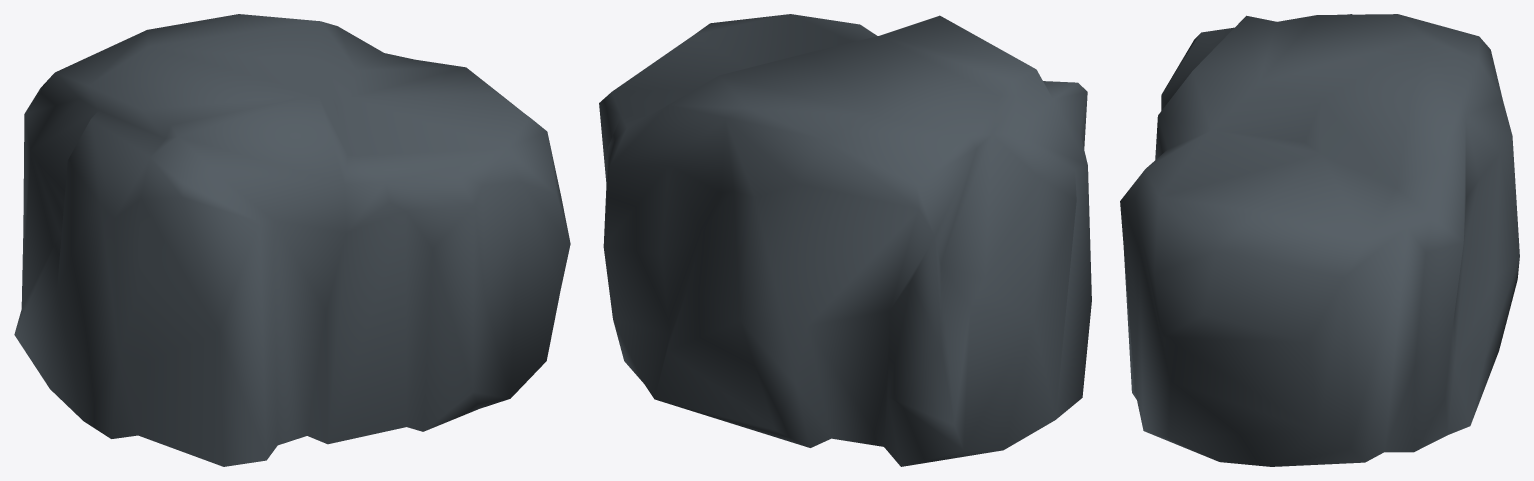
Rendered from rock_02.fbx.
3 views of the same model, side by side, from view 1: azimuth 30°, elevation 25°; view 2: azimuth 150°, elevation 25°; view 3: azimuth 270°, elevation 25° (orthographic). The views are drawn at different scales.
Parts seen in each view (by area): view 1: rock_02; view 2: rock_02; view 3: rock_02.
Part boxes in pixels (x1,y1,x2,y2): rock_02: [14, 14, 570, 466]; rock_02: [599, 14, 1091, 466]; rock_02: [1120, 14, 1519, 466].
Bounding box in the file's own units: 976 × 642 × 778.
